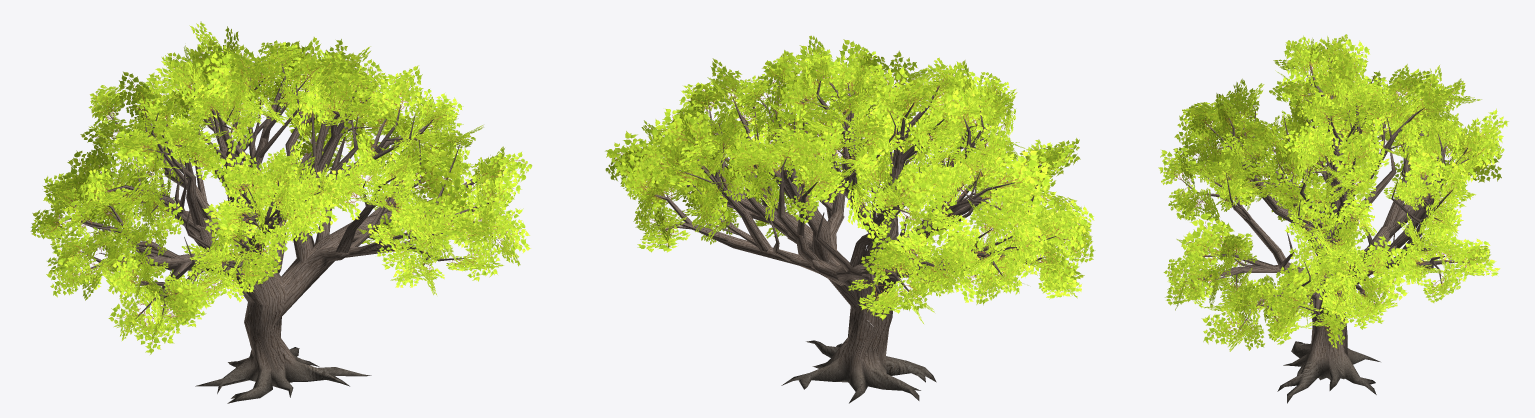
The model's file is Triadica_Spring_LOD2.glb.
3 views of the same model, side by side, from view 1: azimuth 30°, elevation 25°; view 2: azimuth 150°, elevation 25°; view 3: azimuth 270°, elevation 25° (orthographic). The views are drawn at different scales.
Visible parts, largest first — view 1: Triadica_Spring_Shoots_LOD2, Triadica_Wood_LOD2; view 2: Triadica_Spring_Shoots_LOD2, Triadica_Wood_LOD2; view 3: Triadica_Spring_Shoots_LOD2, Triadica_Wood_LOD2.
Part boxes in pixels (left/top/right/bottom): Triadica_Spring_Shoots_LOD2: left=30, top=21, right=532, bottom=354; Triadica_Wood_LOD2: left=56, top=64, right=498, bottom=403; Triadica_Spring_Shoots_LOD2: left=605, top=35, right=1095, bottom=323; Triadica_Wood_LOD2: left=654, top=75, right=1066, bottom=403; Triadica_Spring_Shoots_LOD2: left=1158, top=34, right=1508, bottom=351; Triadica_Wood_LOD2: left=1180, top=48, right=1473, bottom=403.
Size of the model in its own units: 17.09 by 11.62 by 12.55.
2 materials, 2 textured.
